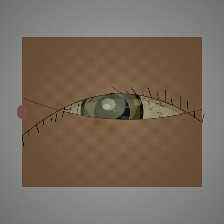corneal_ulcer: (73, 79, 139, 131)
